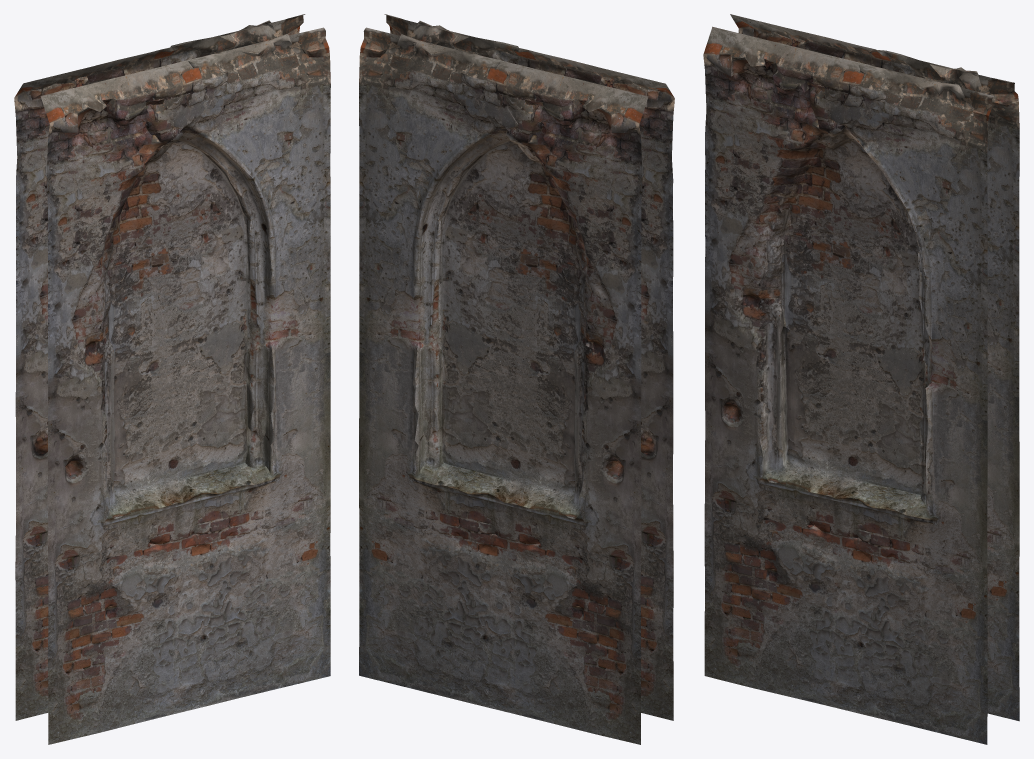
Rendered from SM_ChapelWall_01_01.fbx.
The picture shows the model from 3 angles, left to right: view 1: azimuth 30°, elevation 25°; view 2: azimuth 150°, elevation 25°; view 3: azimuth 330°, elevation 25°; orthographic projection.
Visible parts, largest first — view 1: sm_ChapelWall_01_01_LOD0; view 2: sm_ChapelWall_01_01_LOD0; view 3: sm_ChapelWall_01_01_LOD0.
Boxes of the visible parts, left/top/right/bottom form: sm_ChapelWall_01_01_LOD0: left=14, top=14, right=330, bottom=744; sm_ChapelWall_01_01_LOD0: left=359, top=14, right=674, bottom=744; sm_ChapelWall_01_01_LOD0: left=703, top=14, right=1019, bottom=744.
Bounding box in the file's own units: 60.04 × 250 × 546.
